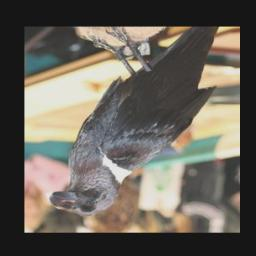Crow: (45, 27, 220, 218)
